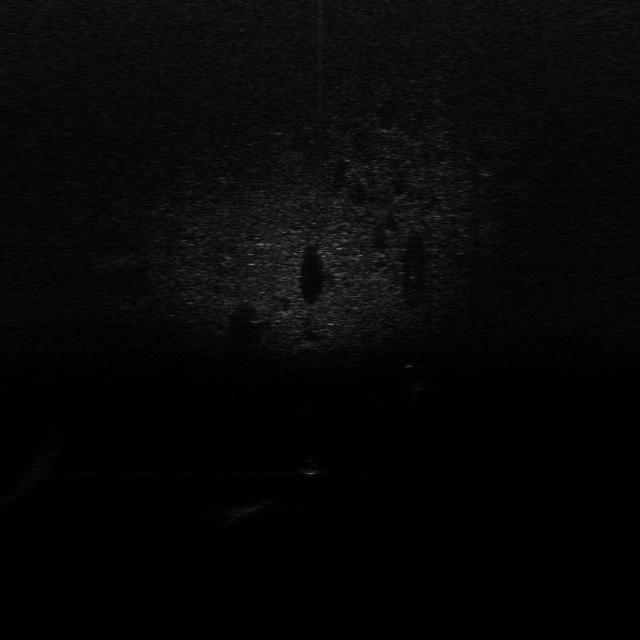ball: (296, 457, 326, 477)
square cage: (216, 497, 278, 523)
tyre: (392, 362, 428, 394)
